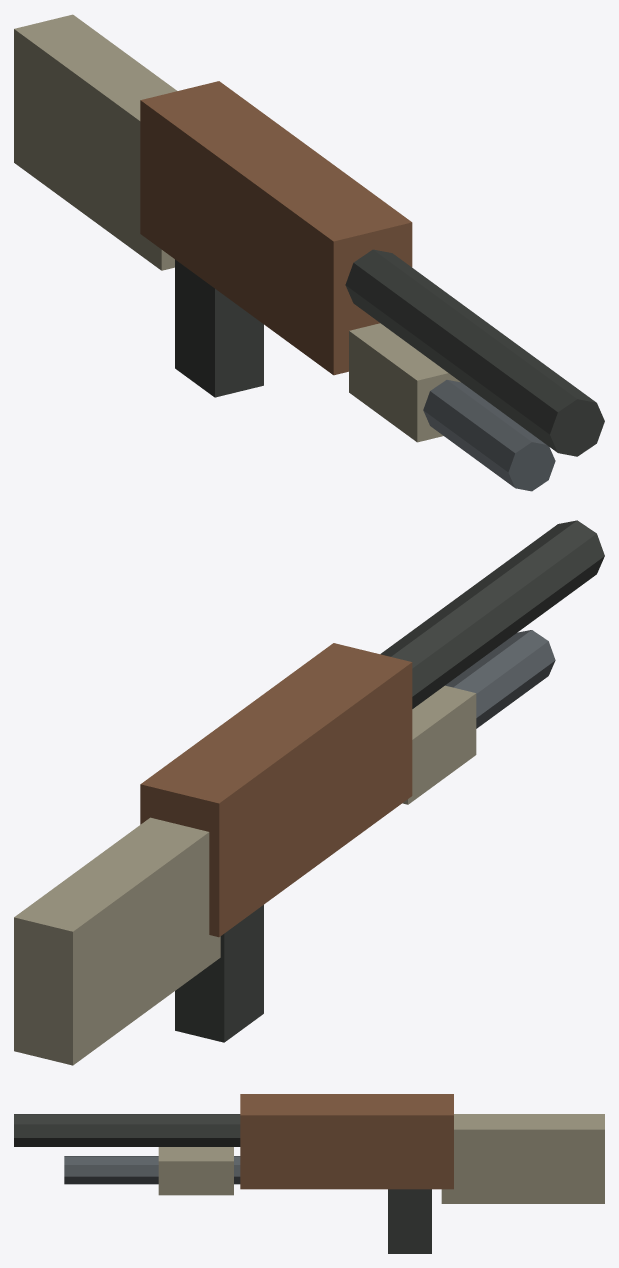
File: wpn_shotgun.glb
3 renders of one model, top to bottom at view 1: azimuth 30°, elevation 25°; view 2: azimuth 150°, elevation 25°; view 3: azimuth 270°, elevation 25°, orthographic. The views are drawn at different scales.
Visible parts, largest first — view 1: receiver, stock, barrel, grip, tube, pump; view 2: receiver, stock, barrel, grip, pump, tube; view 3: receiver, stock, barrel, pump, tube, grip.
Boxes of the visible parts, x1,y1,x2,y2 form: receiver: (140, 81, 412, 375); stock: (14, 14, 177, 270); barrel: (345, 249, 604, 456); grip: (175, 259, 263, 397); tube: (423, 380, 555, 491); pump: (349, 323, 460, 442); receiver: (140, 643, 412, 937); stock: (14, 817, 220, 1065); barrel: (380, 520, 604, 708); grip: (175, 905, 263, 1042); pump: (402, 685, 476, 804); tube: (445, 630, 555, 728); receiver: (240, 1094, 453, 1189); stock: (441, 1114, 604, 1203); barrel: (14, 1114, 240, 1146); pump: (158, 1147, 233, 1195); tube: (64, 1156, 240, 1184); grip: (388, 1189, 431, 1253).
Bounding box in the file's own units: 0.08 × 0.25 × 0.94.
